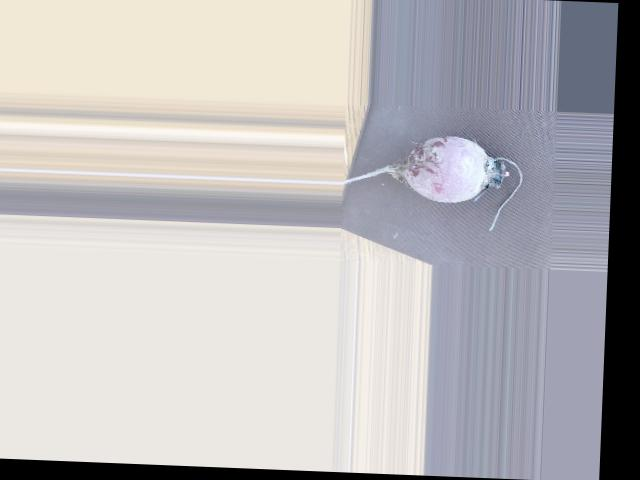beet: (339, 130, 523, 232)
